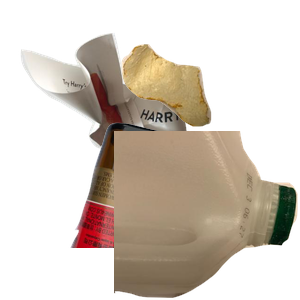glass: (68, 120, 255, 300)
paper: (18, 30, 213, 210)
plastic: (114, 131, 300, 300)
trash: (119, 42, 300, 161)
